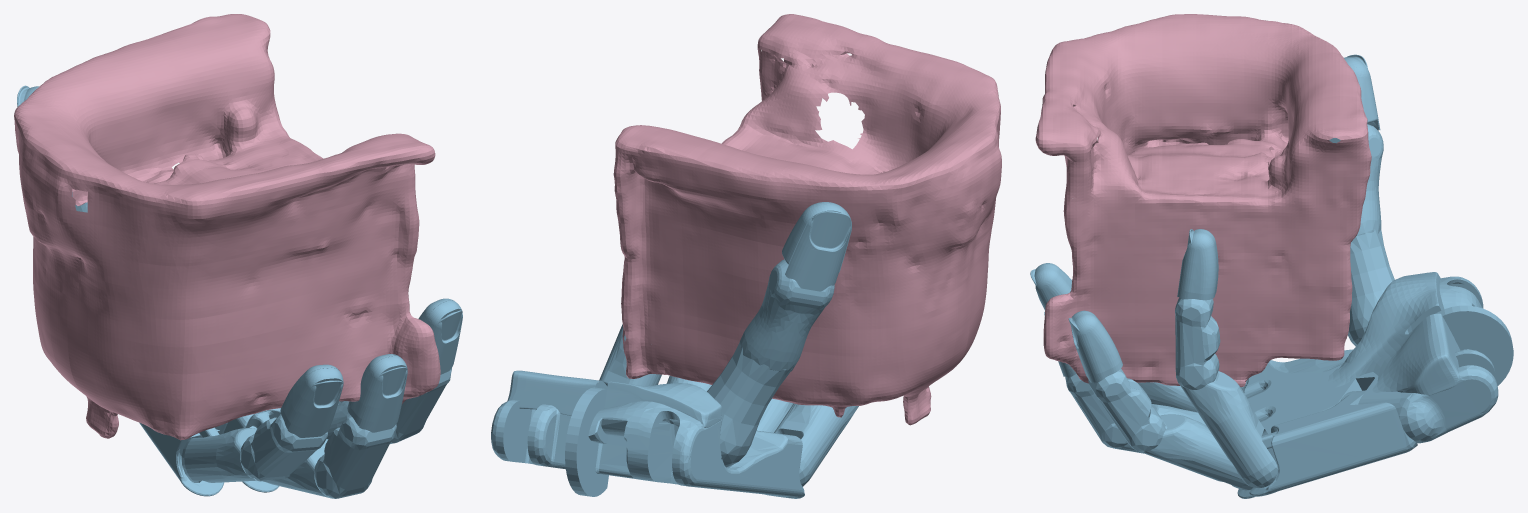
3 views of the same model, side by side, from view 1: azimuth 30°, elevation 25°; view 2: azimuth 150°, elevation 25°; view 3: azimuth 270°, elevation 25° (orthographic). The views are drawn at different scales.
Visible parts, largest first — view 1: world, hand_isaac_q; view 2: world, hand_isaac_q; view 3: world, hand_isaac_q.
Boxes of the visible parts, left/top/right/bottom form: world: left=14, top=14, right=440, bottom=440; hand_isaac_q: left=17, top=85, right=462, bottom=498; world: left=613, top=14, right=1001, bottom=425; hand_isaac_q: left=491, top=202, right=858, bottom=498; world: left=1035, top=14, right=1371, bottom=387; hand_isaac_q: left=1030, top=54, right=1513, bottom=498.
Bounding box in the file's own units: 0.1501 × 0.1557 × 0.1873.
